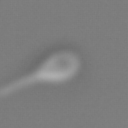normal: (1, 72, 38, 99)
